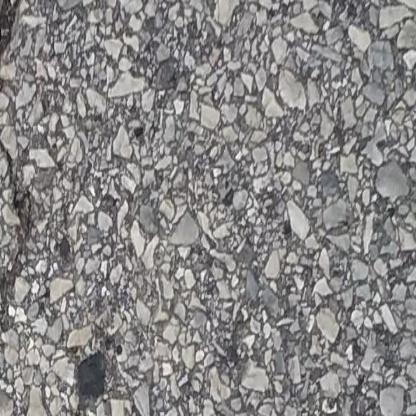Cracks: (0, 0, 37, 416)
